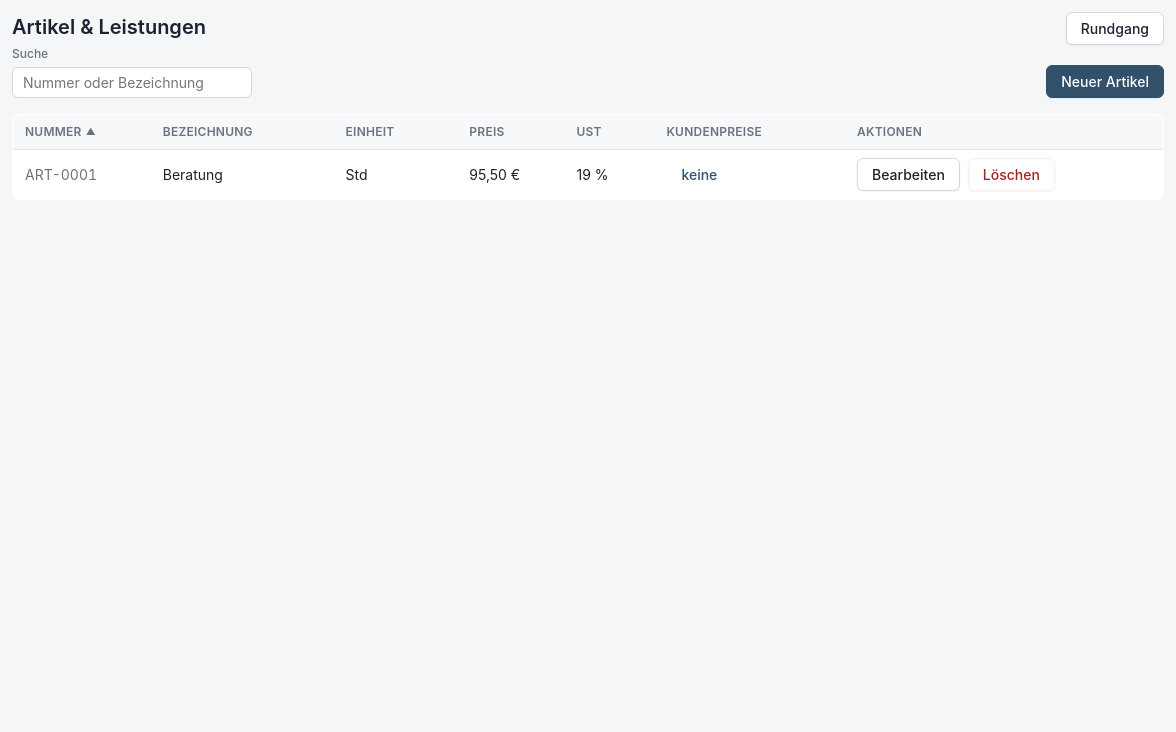
Test case: Artikel › zeigt nach dem Anlegen eines Artikels einen Erfolgs-Hinweis, wenn bereits Kunden existieren
Expected: the text "Beratung" is shown, left=151, top=150, right=334, bottom=200
Click the button "Neuer Artikel" at (1105, 82), box left=1046, top=65, right=1164, bottom=98
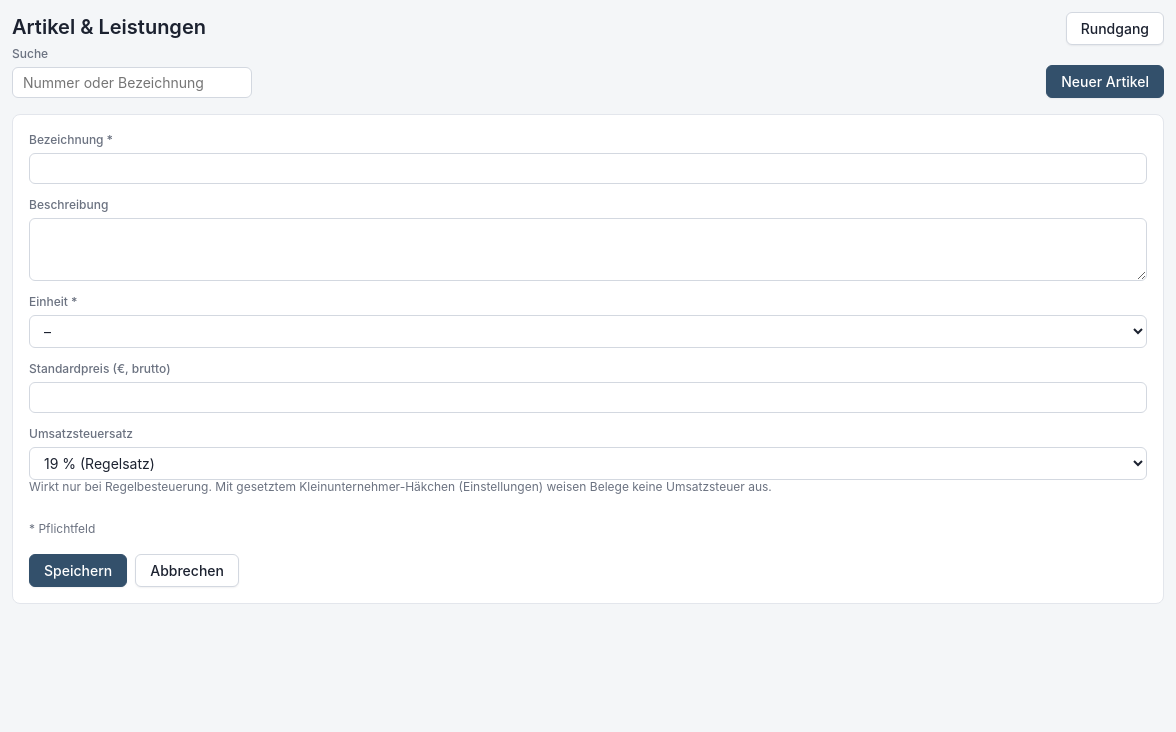
Type "Konzeption" into the field labelled "Bezeichnung *" at (588, 168), box left=29, top=153, right=1147, bottom=184
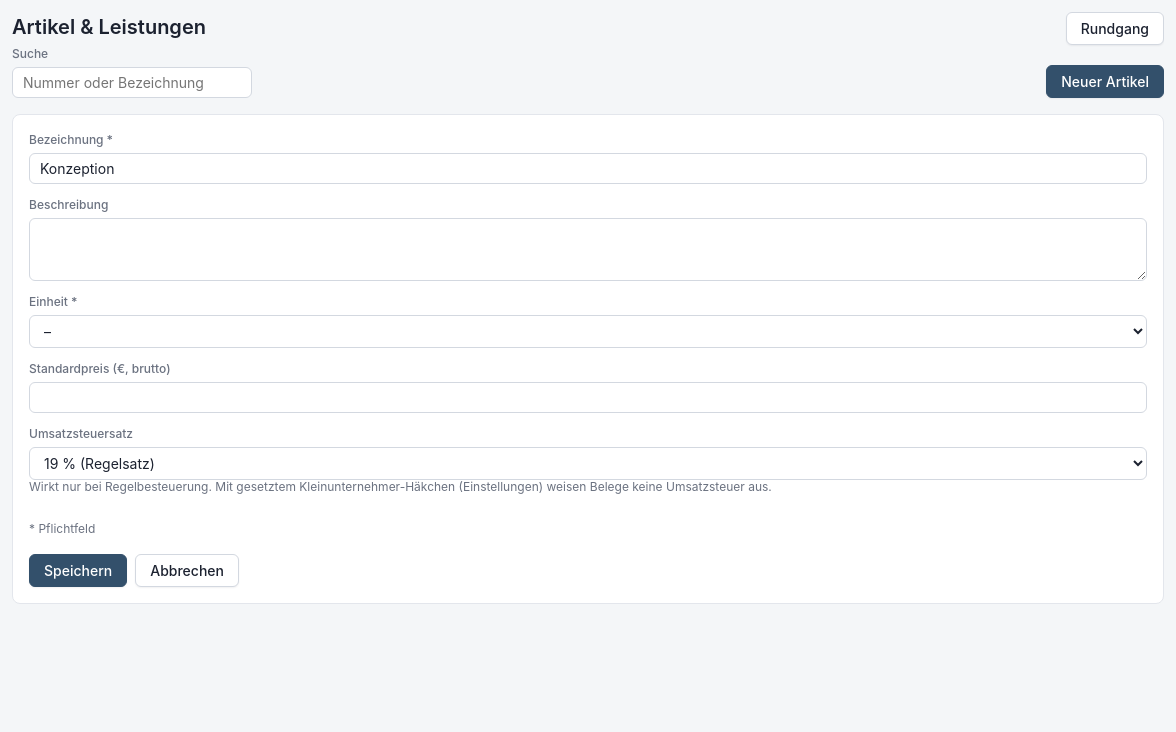
Select "Stunde (Std)" in the dropdown labelled "Einheit *" at (588, 332), box left=29, top=315, right=1147, bottom=348
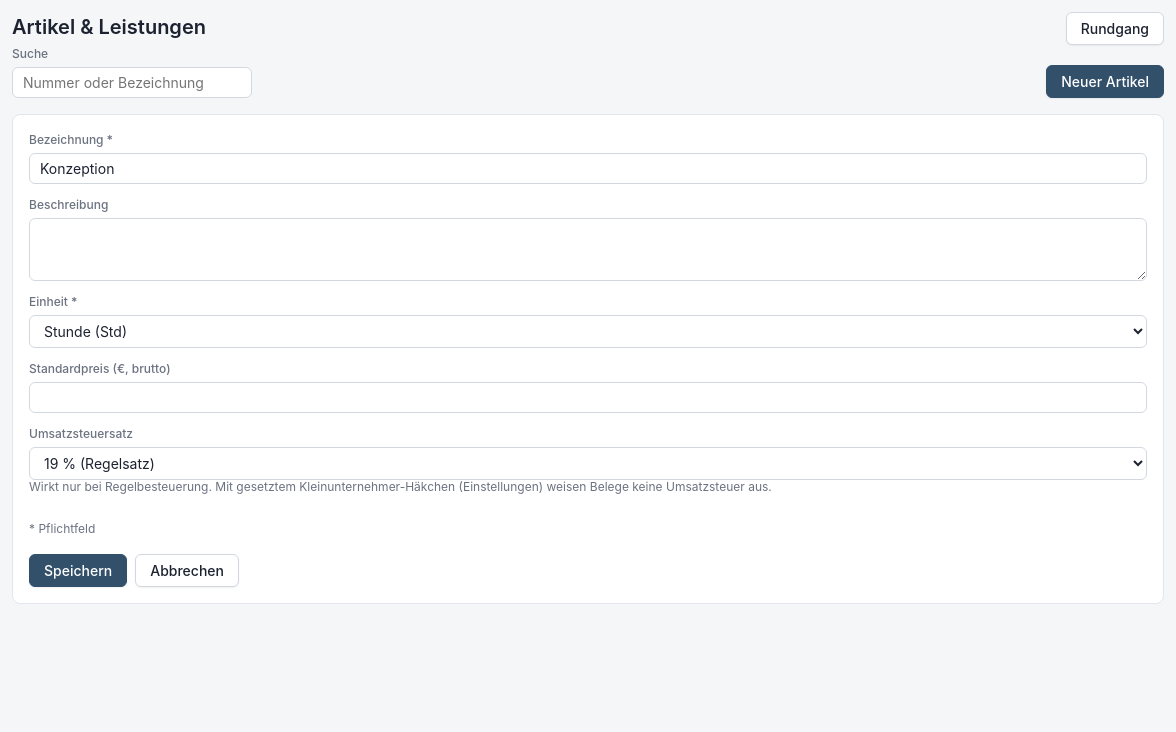
Type "50,00" into the field labelled "Standardpreis (€, brutto)" at (588, 398), box left=29, top=382, right=1147, bottom=413
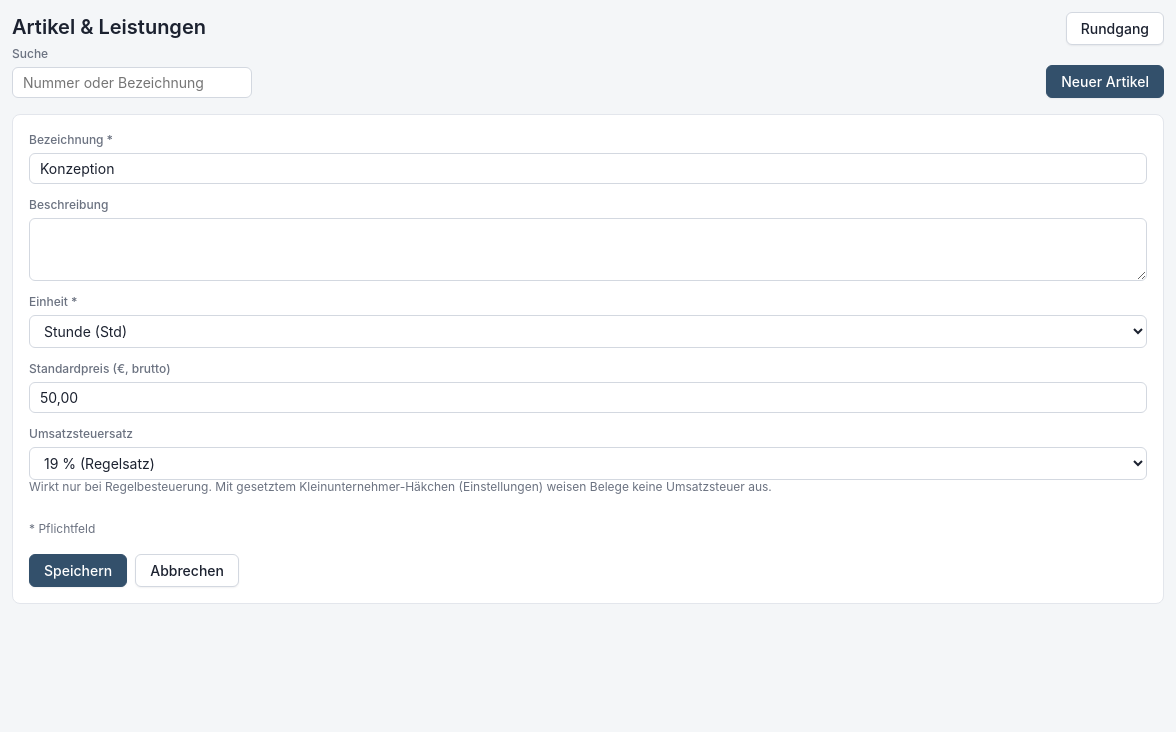
Click the button "Speichern" at (78, 570), box left=29, top=554, right=127, bottom=587
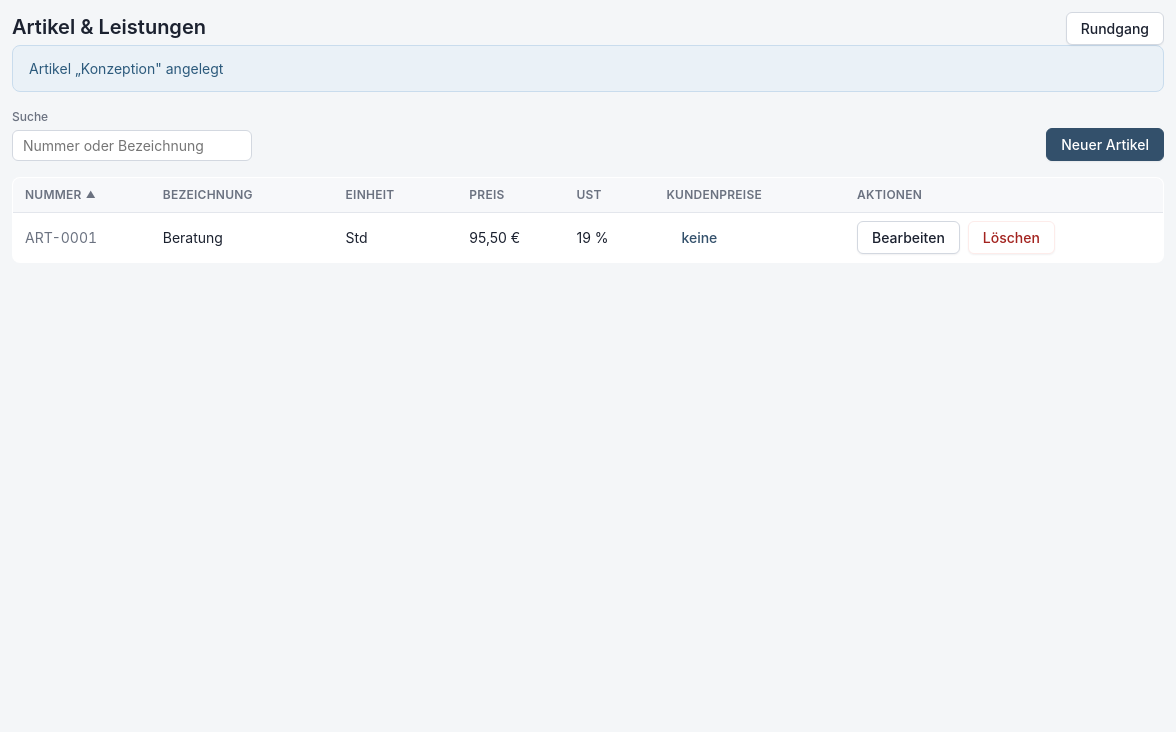
Expected: the text "Artikel „Konzeption\" angelegt" is shown, left=29, top=58, right=223, bottom=79
